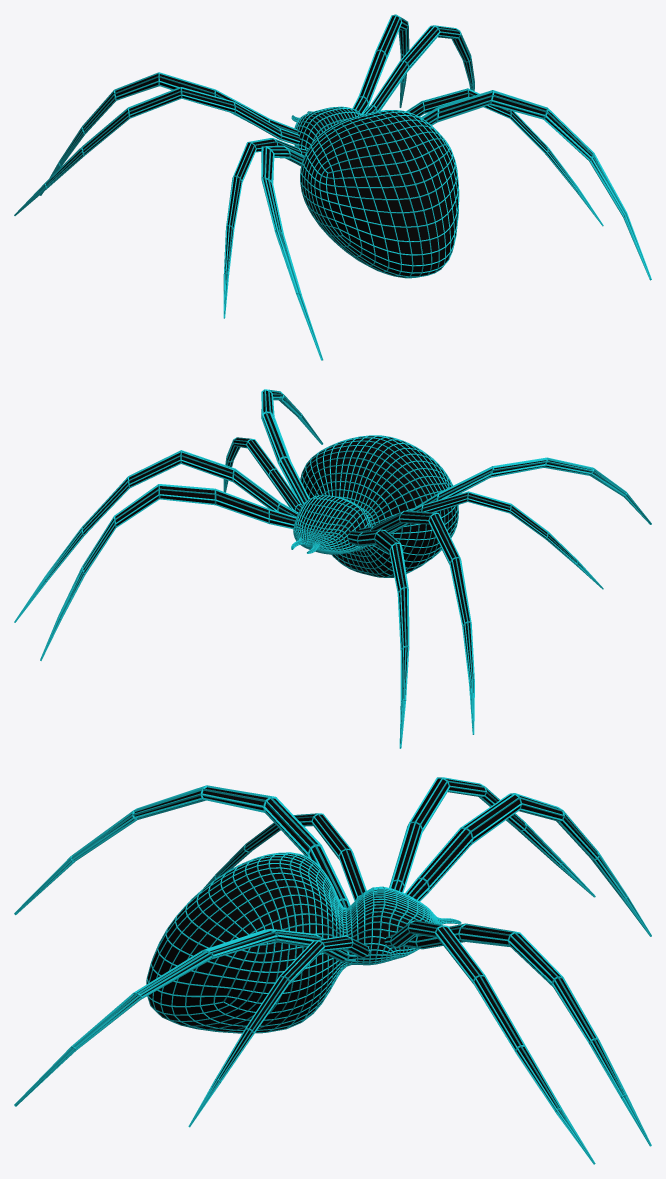
Rendered from spyd.glb.
The picture shows the model from 3 angles, top to bottom: view 1: azimuth 30°, elevation 25°; view 2: azimuth 150°, elevation 25°; view 3: azimuth 270°, elevation 25°; orthographic projection. The views are drawn at different scales.
Parts seen in each view (by area): view 1: BODY.001, BODY, 4, 2, 2.001, 1, 3, 1.001, 3.001, 4.001; view 2: BODY.001, BODY, 2, 1, 4, 2.001, 1.001, 3, 3.001, 4.001; view 3: BODY.001, BODY, 4, 1, 2, 1.001, 2.001, 3, 4.001, 3.001.
Part boxes in pixels (x1,y1,x2,y2): BODY.001: (296,107,458,277); BODY: (291,106,459,278); 4: (261,90,651,360); 2: (14,25,474,215); 2.001: (39,26,473,190); 1: (40,14,409,195); 3: (223,88,603,318); 1.001: (62,16,407,158); 3.001: (225,89,574,284); 4.001: (263,93,605,248); BODY.001: (295,436,458,577); BODY: (291,435,458,577); 2: (14,450,474,734); 1: (40,484,409,748); 4: (261,389,651,534); 2.001: (49,451,473,692); 1.001: (70,486,407,698); 3: (223,437,603,589); 3.001: (226,438,582,567); 4.001: (263,390,604,504); BODY.001: (147,853,440,1032); BODY: (146,852,461,1033); 4: (14,785,356,1106); 1: (403,793,651,1146); 2: (384,777,595,1164); 1.001: (405,794,624,1094); 2.001: (385,778,567,1120); 3: (188,813,371,1127); 4.001: (103,787,355,1019); 3.001: (212,814,370,1090).
Bounding box in the file's own units: 4.47 × 1.48 × 4.49.
